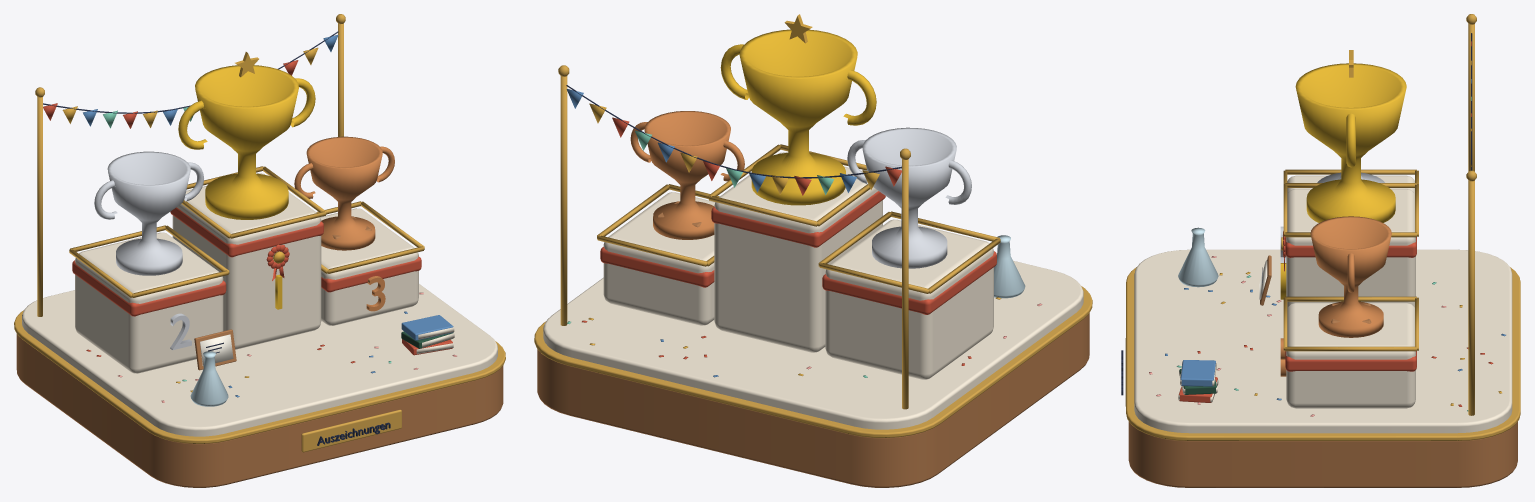
The model's file is awards.glb.
3 views of the same model, side by side, from view 1: azimuth 30°, elevation 25°; view 2: azimuth 150°, elevation 25°; view 3: azimuth 270°, elevation 25° (orthographic). The views are drawn at different scales.
Parts seen in each view (by area): view 1: Awards_Deck, Awards, Awards_Block1, Awards_Trophy1, Awards_Block2, Awards_Trophy2, Awards_Trophy3, Awards_Block3, Awards_Trim, Awards_XPodiumTrim, Awards_XBuntingPoles, Awards_Stripe2 (+8 smaller); view 2: Awards_Deck, Awards, Awards_Block1, Awards_Block2, Awards_Trophy1, Awards_Trophy2, Awards_Block3, Awards_Trophy3, Awards_Trim, Awards_XPodiumTrim, Awards_XBuntingPoles, Awards_Stripe1 (+7 smaller); view 3: Awards_Deck, Awards, Awards_Trophy1, Awards_Block3, Awards_Trophy3, Awards_Block1, Awards_Trim, Awards_XPodiumTrim, Awards_XBuntingPoles, Awards_Stripe3, Awards_Flask, Awards_Book2 (+2 smaller).
Part boxes in pixels (box(x1,y1,x2,y2)): Awards_Deck: box(22, 284, 497, 436); Awards: box(16, 334, 503, 487); Awards_Block1: box(172, 173, 321, 349); Awards_Trophy1: box(178, 65, 315, 219); Awards_Block2: box(75, 232, 223, 373); Awards_Trophy2: box(94, 151, 203, 275); Awards_Trophy3: box(294, 136, 394, 250); Awards_Block3: box(320, 208, 418, 325); Awards_Trim: box(14, 310, 505, 443); Awards_XPodiumTrim: box(69, 166, 424, 297); Awards_XBuntingPoles: box(35, 14, 345, 316); Awards_Stripe2: box(72, 260, 226, 316); Awards_Deck: box(543, 260, 1083, 429); Awards: box(537, 313, 1089, 487); Awards_Block1: box(714, 152, 882, 352); Awards_Block2: box(825, 219, 993, 379); Awards_Trophy1: box(720, 29, 876, 205); Awards_Trophy2: box(847, 127, 971, 268); Awards_Block3: box(603, 192, 715, 325); Awards_Trophy3: box(630, 111, 744, 239); Awards_Trim: box(534, 286, 1092, 437); Awards_XPodiumTrim: box(597, 144, 1000, 293); Awards_XBuntingPoles: box(558, 65, 910, 409); Awards_Stripe1: box(711, 191, 885, 247); Awards_Deck: box(1134, 249, 1512, 433); Awards: box(1128, 421, 1517, 487); Awards_Trophy1: box(1295, 63, 1406, 222); Awards_Block3: box(1286, 302, 1415, 408); Awards_Trophy3: box(1310, 216, 1391, 337); Awards_Block1: box(1286, 189, 1415, 307); Awards_Trim: box(1126, 267, 1520, 440); Awards_XPodiumTrim: box(1283, 169, 1418, 351); Awards_XBuntingPoles: box(1466, 14, 1476, 415); Awards_Stripe3: box(1285, 351, 1416, 371); Awards_Flask: box(1178, 227, 1218, 287); Awards_Book2: box(1180, 360, 1215, 386).
Size of the model in its own units: 4.66 by 4.16 by 4.31.
